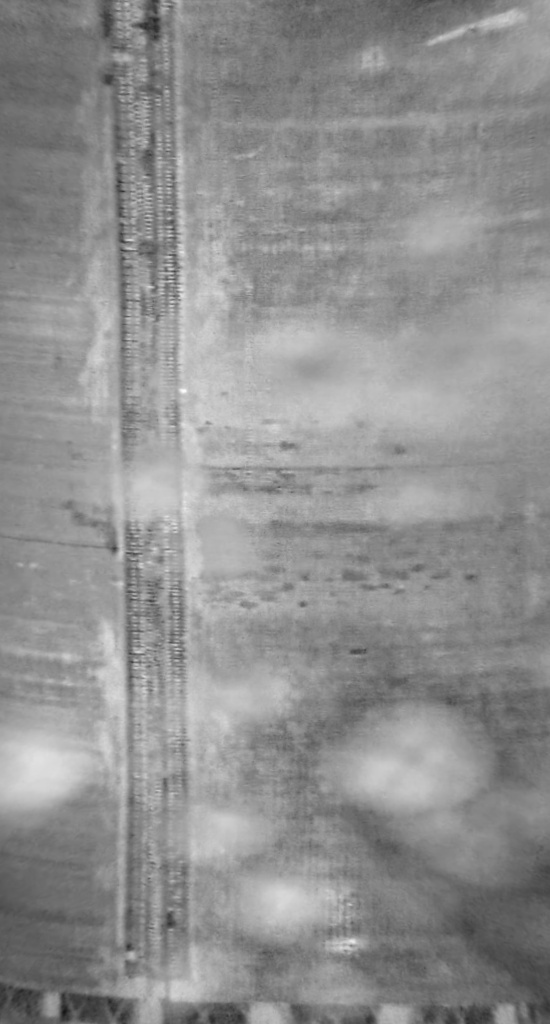splice: (105, 1, 208, 1024)
